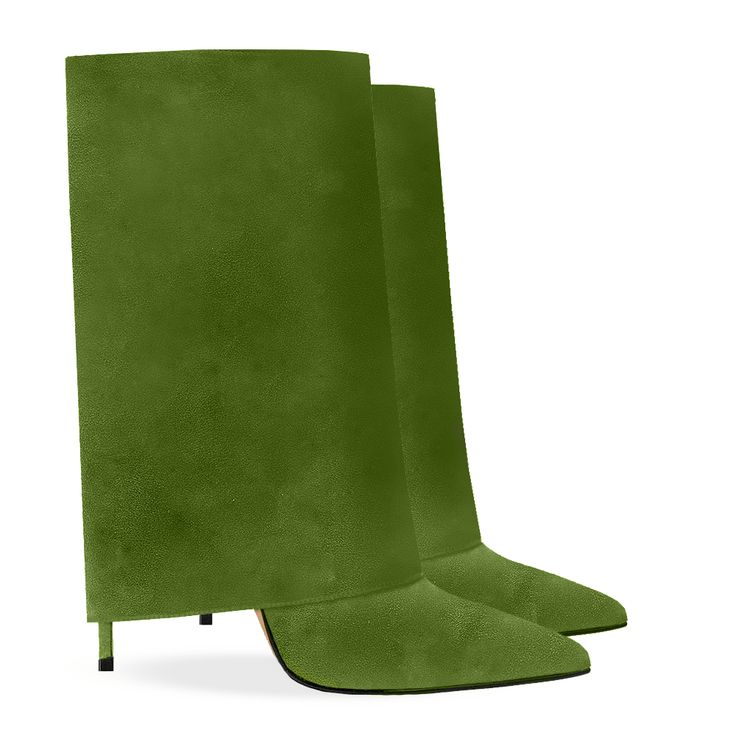gamuza: (66, 50, 628, 692)
